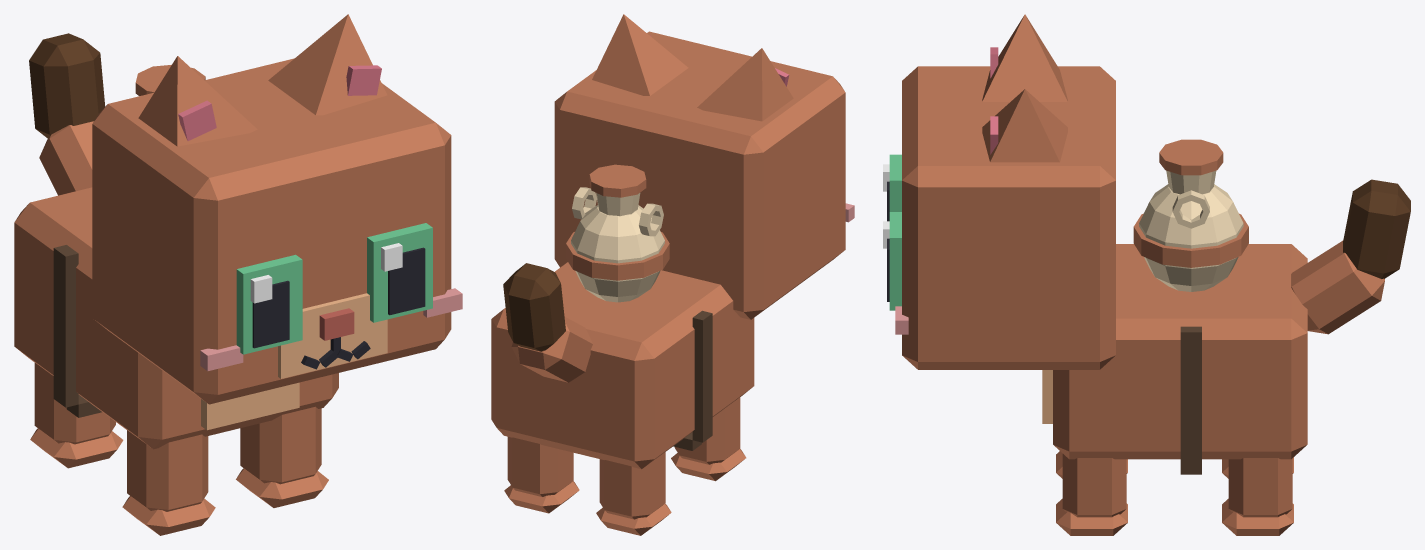
Rendered from CatCafe_Cat_Clay.glb.
3 renders of one model, left to right at view 1: azimuth 30°, elevation 25°; view 2: azimuth 150°, elevation 25°; view 3: azimuth 270°, elevation 25°, orthographic. The views are drawn at different scales.
Parts seen in each view (by area): view 1: CatCafe_Cat_Clay_Head, CatCafe_Cat_Clay_Body, CatCafe_Cat_Clay_Tail, CatCafe_Cat_Clay_LegF2, CatCafe_Cat_Clay_LegF1, CatCafe_Cat_Clay_EarL, CatCafe_Cat_Clay_Eye2, CatCafe_Cat_Clay_Eye1, CatCafe_Cat_Clay_EarR, CatCafe_Cat_Clay_Prop, CatCafe_Cat_Clay_LegB2; view 2: CatCafe_Cat_Clay_Head, CatCafe_Cat_Clay_Body, CatCafe_Cat_Clay_Prop, CatCafe_Cat_Clay_Tail, CatCafe_Cat_Clay_LegB2, CatCafe_Cat_Clay_EarL, CatCafe_Cat_Clay_LegB1, CatCafe_Cat_Clay_EarR, CatCafe_Cat_Clay_LegF2; view 3: CatCafe_Cat_Clay_Head, CatCafe_Cat_Clay_Body, CatCafe_Cat_Clay_Prop, CatCafe_Cat_Clay_Tail, CatCafe_Cat_Clay_LegF1, CatCafe_Cat_Clay_LegB1, CatCafe_Cat_Clay_EarL, CatCafe_Cat_Clay_EarR, CatCafe_Cat_Clay_Eye1, CatCafe_Cat_Clay_Eye2.
Boxes of the visible parts, bbox=[...] form: CatCafe_Cat_Clay_Head: bbox=[92, 58, 462, 404]; CatCafe_Cat_Clay_Body: bbox=[14, 187, 338, 449]; CatCafe_Cat_Clay_Tail: bbox=[29, 33, 105, 195]; CatCafe_Cat_Clay_LegF2: bbox=[122, 430, 215, 535]; CatCafe_Cat_Clay_LegF1: bbox=[236, 406, 328, 507]; CatCafe_Cat_Clay_EarL: bbox=[268, 14, 387, 115]; CatCafe_Cat_Clay_Eye2: bbox=[236, 254, 302, 354]; CatCafe_Cat_Clay_Eye1: bbox=[367, 223, 432, 322]; CatCafe_Cat_Clay_EarR: bbox=[138, 56, 257, 146]; CatCafe_Cat_Clay_Prop: bbox=[53, 64, 205, 417]; CatCafe_Cat_Clay_LegB2: bbox=[30, 362, 123, 468]; CatCafe_Cat_Clay_Head: bbox=[554, 31, 854, 319]; CatCafe_Cat_Clay_Body: bbox=[491, 262, 754, 469]; CatCafe_Cat_Clay_Prop: bbox=[566, 164, 712, 450]; CatCafe_Cat_Clay_Tail: bbox=[503, 263, 592, 382]; CatCafe_Cat_Clay_LegB2: bbox=[596, 452, 671, 535]; CatCafe_Cat_Clay_EarL: bbox=[592, 14, 688, 95]; CatCafe_Cat_Clay_LegB1: bbox=[504, 437, 579, 513]; CatCafe_Cat_Clay_EarR: bbox=[697, 48, 793, 121]; CatCafe_Cat_Clay_LegF2: bbox=[671, 397, 746, 481]; CatCafe_Cat_Clay_Head: bbox=[895, 66, 1115, 369]; CatCafe_Cat_Clay_Body: bbox=[1042, 244, 1307, 459]; CatCafe_Cat_Clay_Prop: bbox=[1133, 139, 1248, 474]; CatCafe_Cat_Clay_Tail: bbox=[1291, 179, 1410, 334]; CatCafe_Cat_Clay_LegF1: bbox=[1056, 454, 1127, 535]; CatCafe_Cat_Clay_LegB1: bbox=[1222, 458, 1293, 535]; CatCafe_Cat_Clay_EarL: bbox=[982, 89, 1067, 162]; CatCafe_Cat_Clay_EarR: bbox=[982, 14, 1067, 101]; CatCafe_Cat_Clay_Eye1: bbox=[883, 212, 901, 310]; CatCafe_Cat_Clay_Eye2: bbox=[883, 154, 901, 221].
Bounding box in the file's own units: 1 × 1.86 × 1.97.
Materials: 1 (1 with a texture image).
